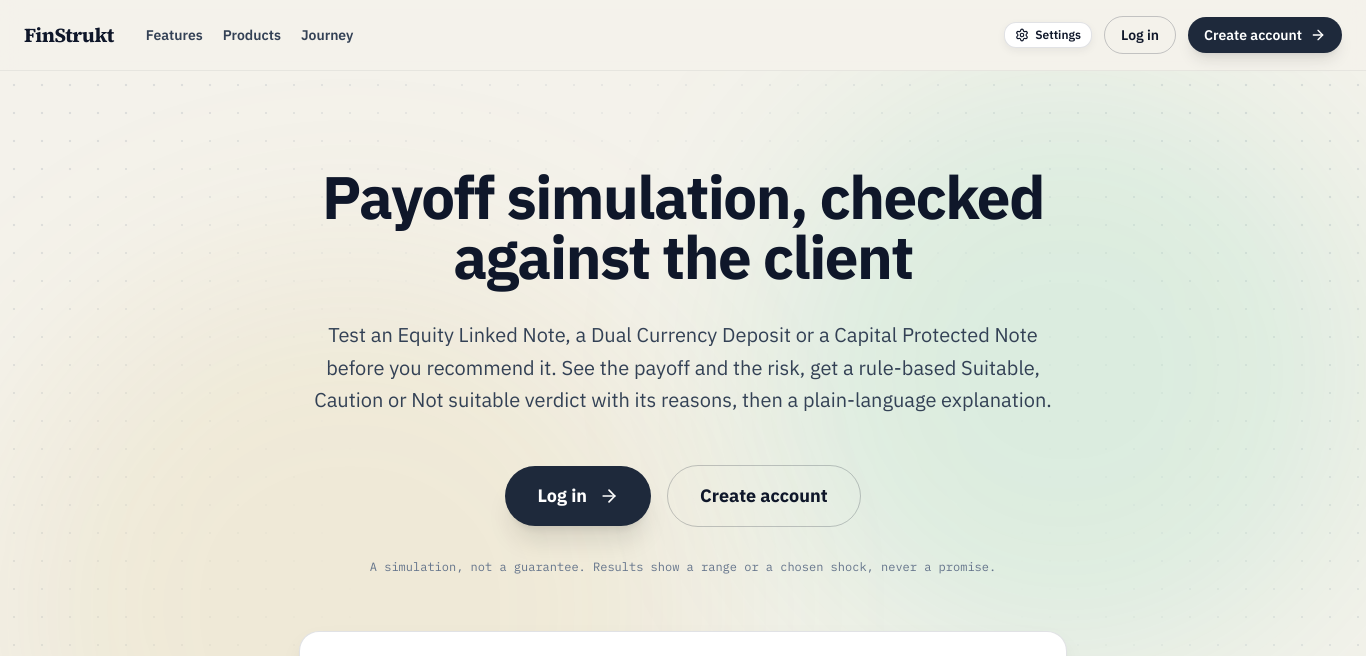
it: registering › is one link away on the sign-in page, and back again
This screenshot has width=1366, height=656.
Click the button "Log in" in the row of "Products" at (1140, 35), box [1104,16,1176,54]
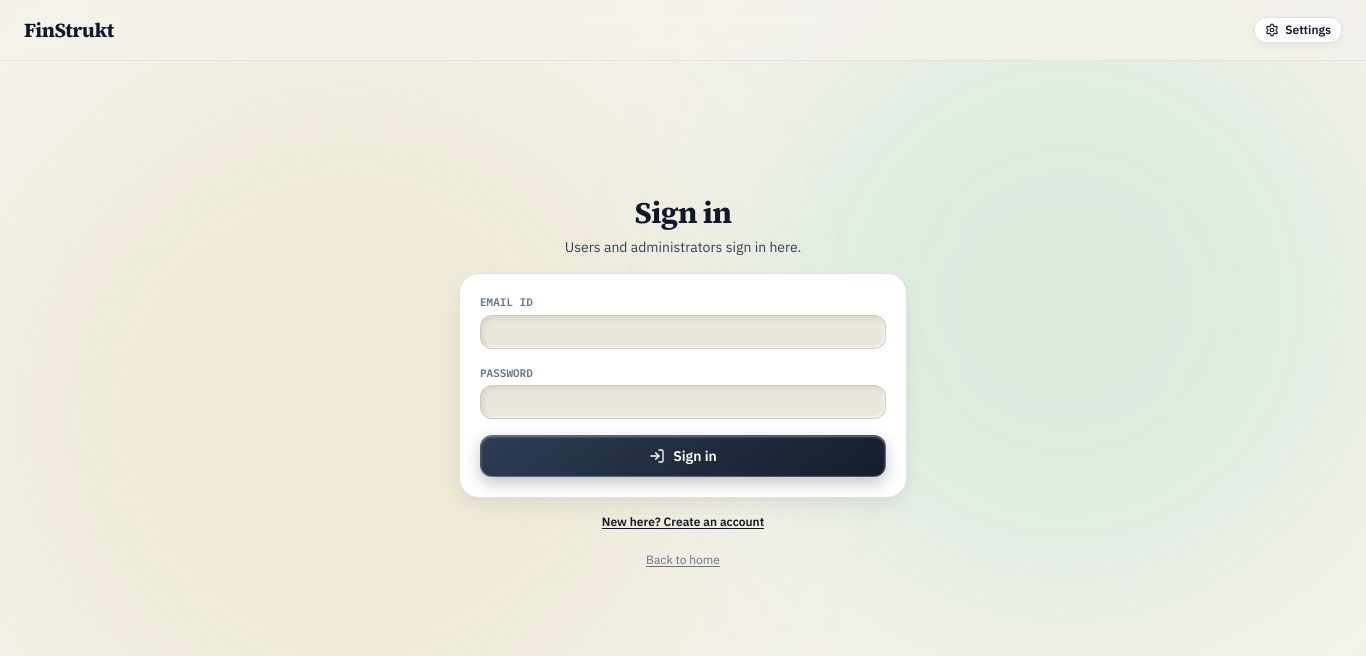
Now the heading "Sign in" is shown, box [635,192,731,233]
Click the button "New here? Create an account" at (683, 522), box [602,514,764,530]
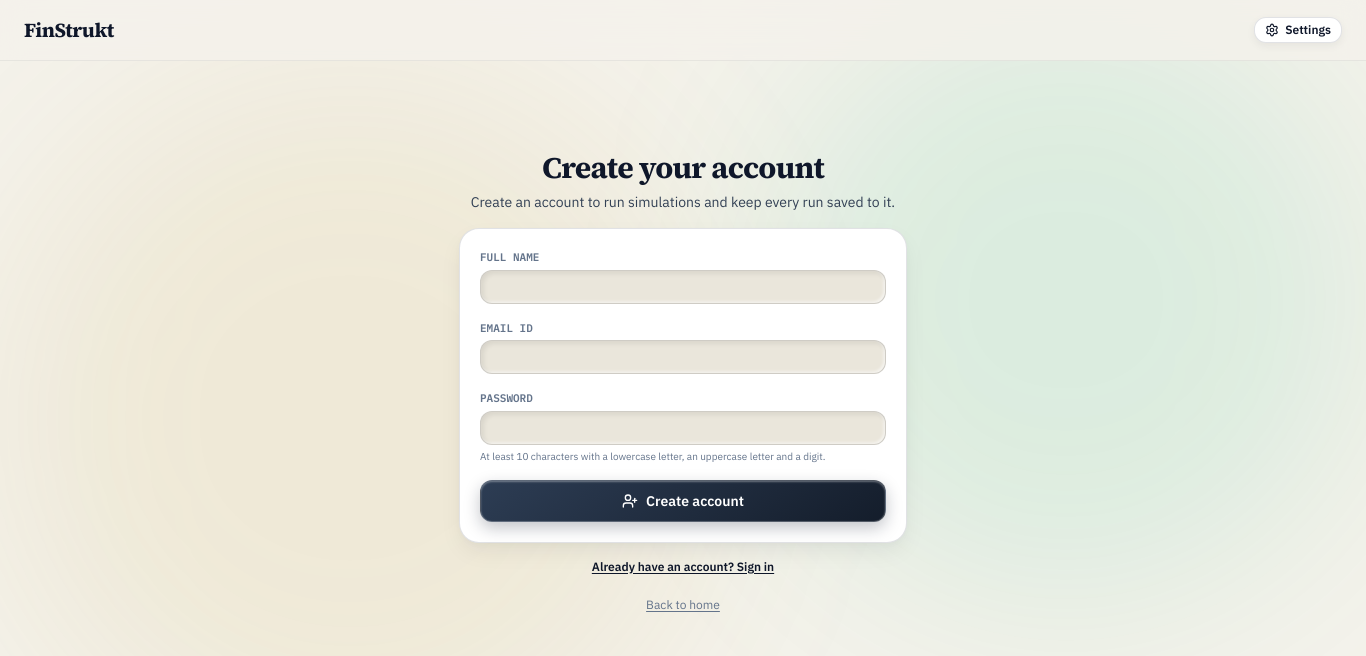
Now the heading "Create your account" is shown, box [542,147,824,188]
Click the button "Already have an account? Sign in" at (683, 567), box [592,559,774,575]
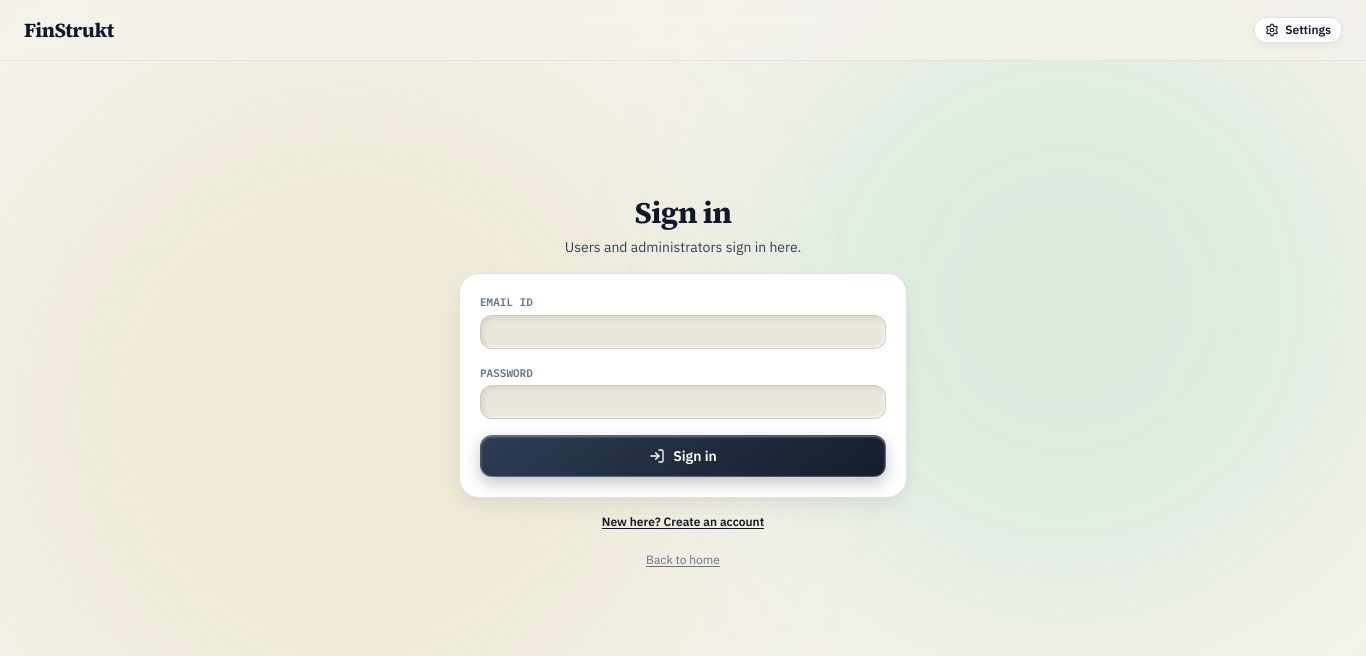
Now the heading "Sign in" is shown, box [635,192,731,233]
